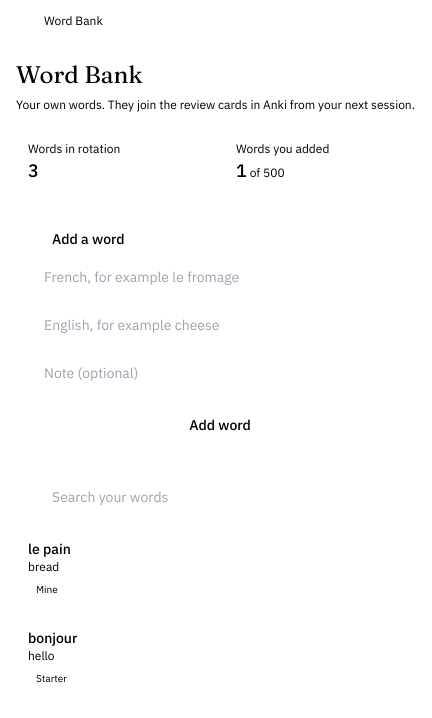
Test: Word Bank screen › adds a word stamped with the current Anki day
The width and height of the screenshot is (432, 718).
Check: the text "le pain" is shown, box 28,540 -> 71,558
Type "le fromage" into the field labelled "French".
click(220, 277); type("le fromage")  # box 32,257 -> 408,297
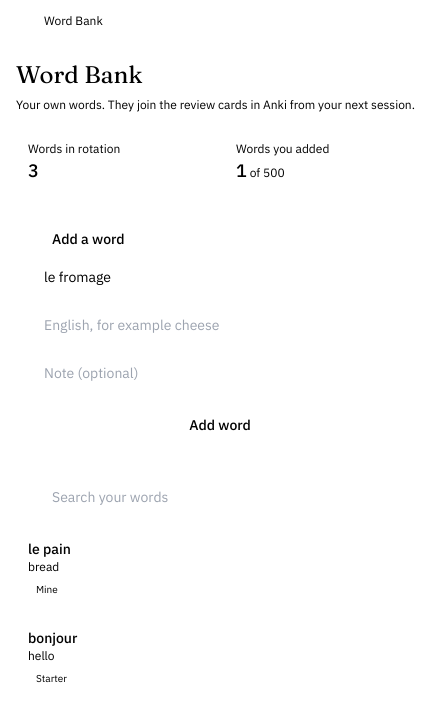
Type "cheese" into the field labelled "English".
click(220, 325); type("cheese")  # box 32,305 -> 408,345
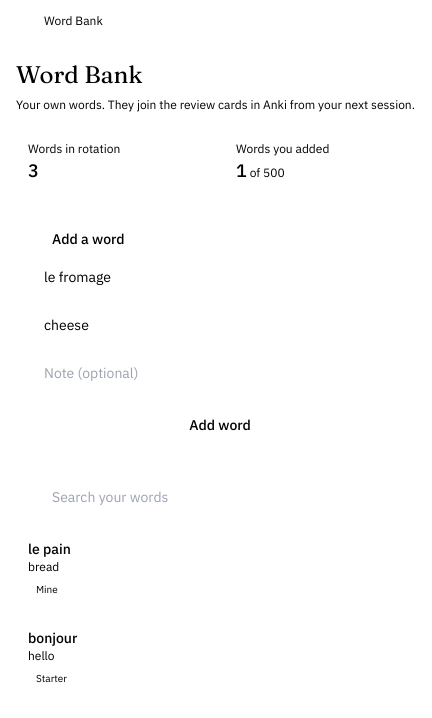
Click the button "Add word".
click(220, 425)  # box 32,405 -> 408,445
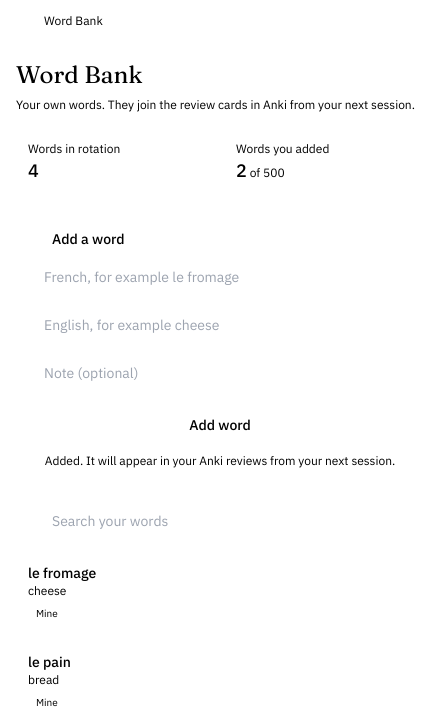
Check: the text "le fromage" is shown, box 28,564 -> 96,582
Check: the message shows "next session", box 45,453 -> 395,468
